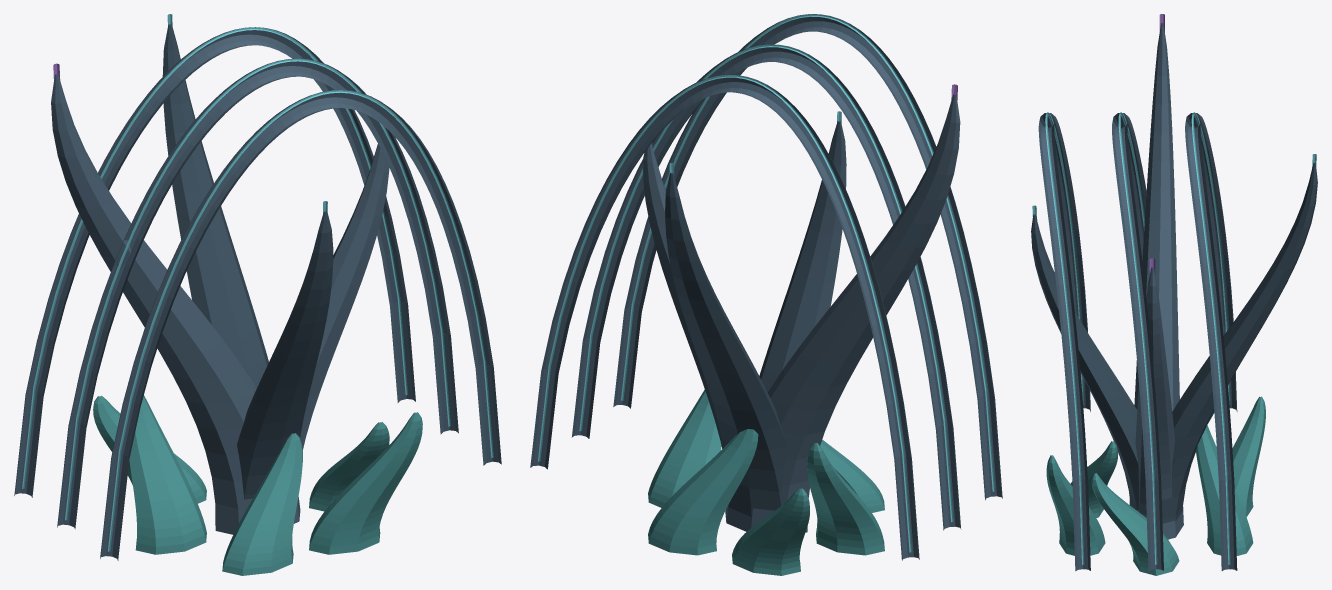
File: hexcore_elven_sanctuary_08.glb
The picture shows the model from 3 angles, left to right: view 1: azimuth 30°, elevation 25°; view 2: azimuth 150°, elevation 25°; view 3: azimuth 270°, elevation 25°; orthographic projection. The views are drawn at different scales.
Visible parts, largest first — view 1: world; view 2: world; view 3: world.
Part boxes in pixels (<box>): world: <box>14,14,501,575</box>; world: <box>530,14,1002,575</box>; world: <box>1031,14,1317,575</box>.
Size of the model in its own units: 32.55 by 38.71 by 23.52.
